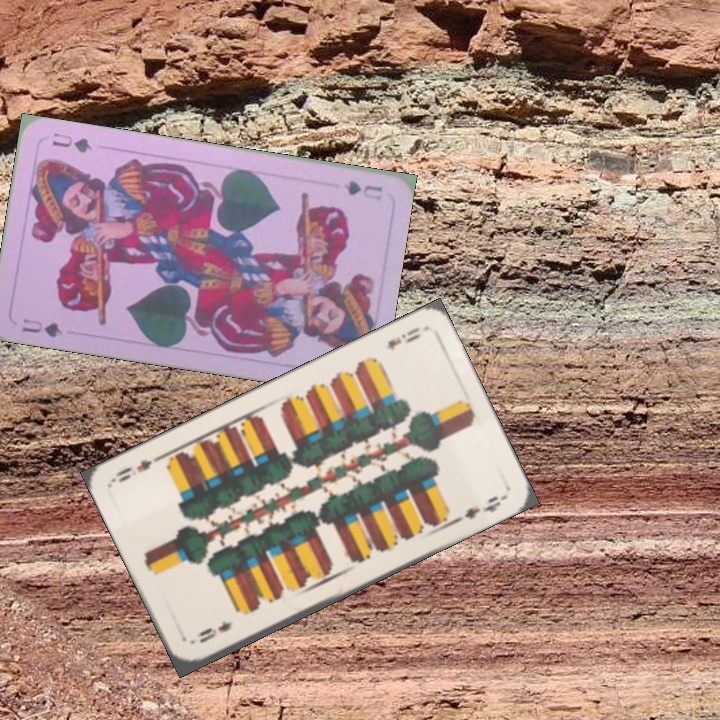E9: (381, 323, 424, 354), (192, 617, 235, 646)
GU: (340, 176, 385, 203), (18, 315, 65, 340)
